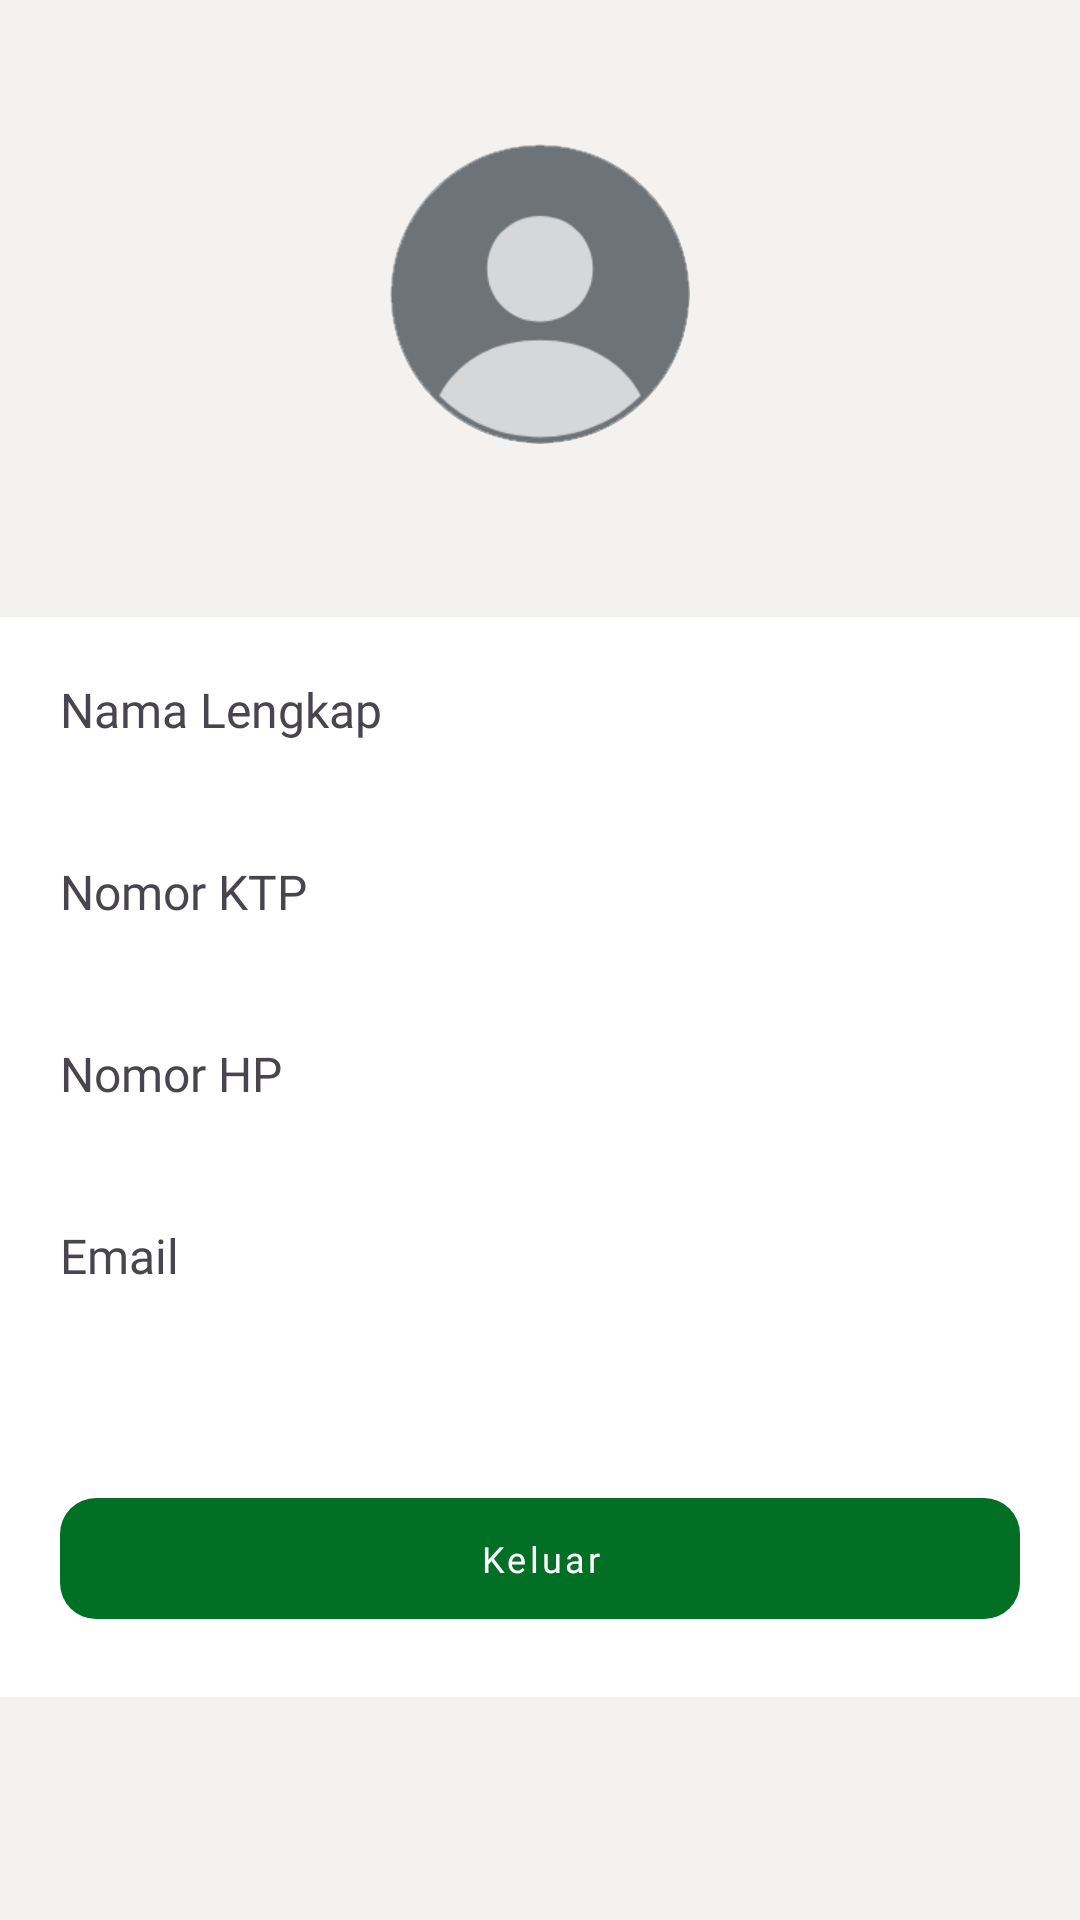

Where to tap for icons on this 1080 x 1920 app screen, as (x=x, y=y):
no profile: (x=540, y=294)
